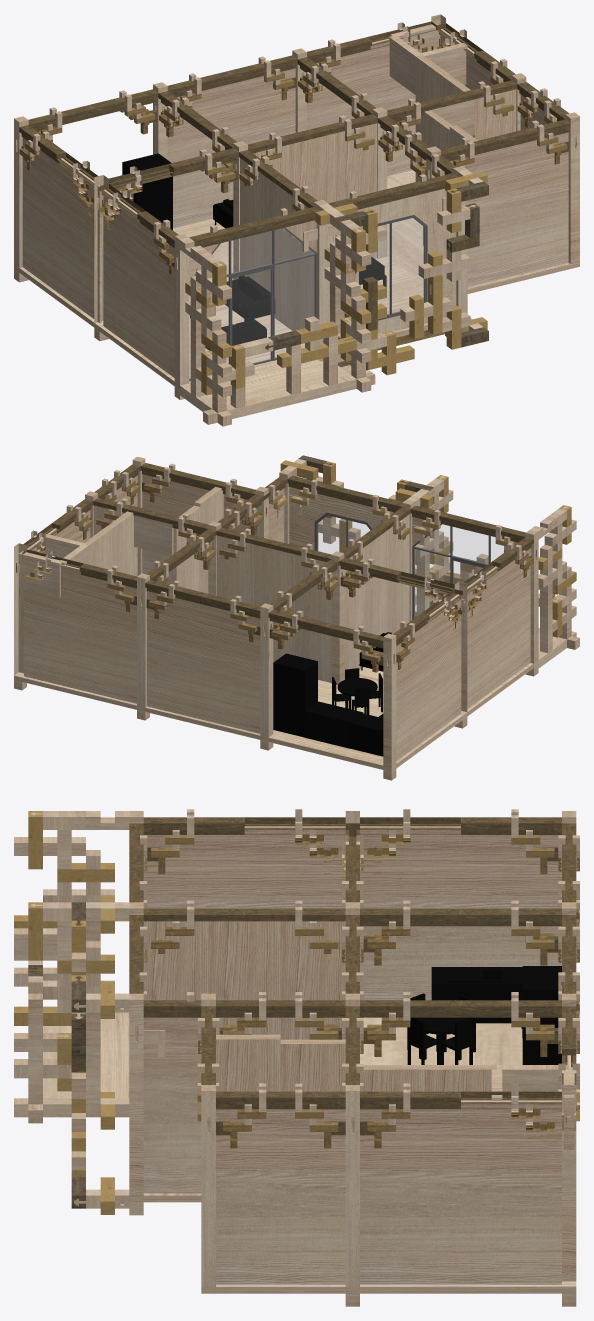
The model's file is 1bed-a.glb.
3 renders of one model, top to bottom at view 1: azimuth 30°, elevation 25°; view 2: azimuth 150°, elevation 25°; view 3: azimuth 270°, elevation 25°, orthographic. The views are drawn at different scales.
Bounding box in the file's own units: 9.45 × 3.4 × 7.85.
11 materials, 8 textured.
